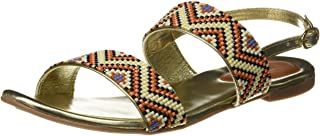shoes: (1, 1, 320, 134)
